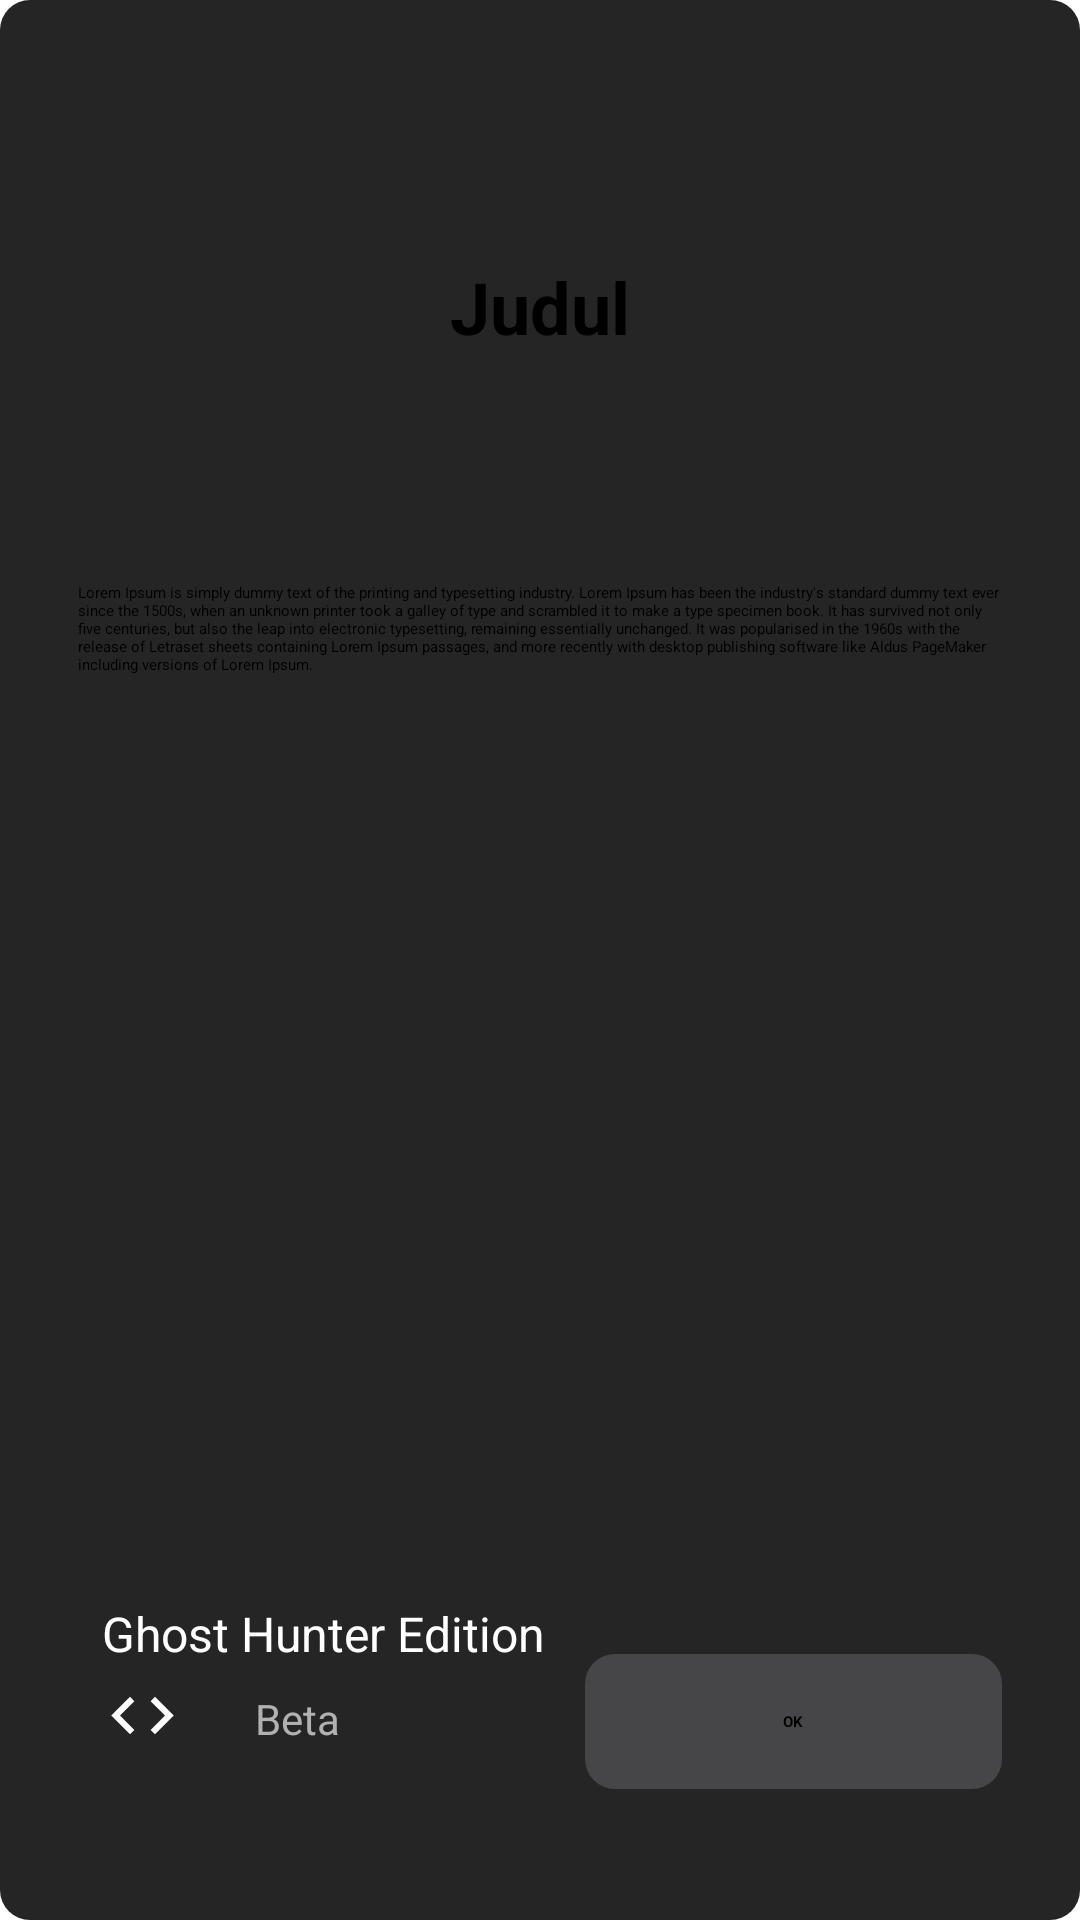

Named icons in this screenshot (1080px x 1920px) and their bounding boxes, (left=x1, top=y1, right=x2, bottom=y2):
code: (left=111, top=1697, right=174, bottom=1734)
